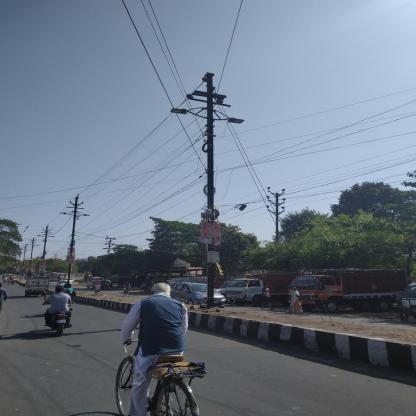Electrical Pole: (173, 67, 256, 309)
